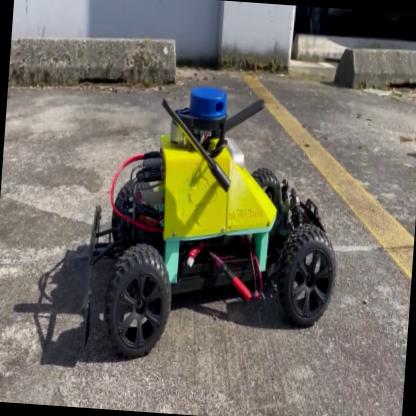mushr_car: (76, 74, 353, 385)
